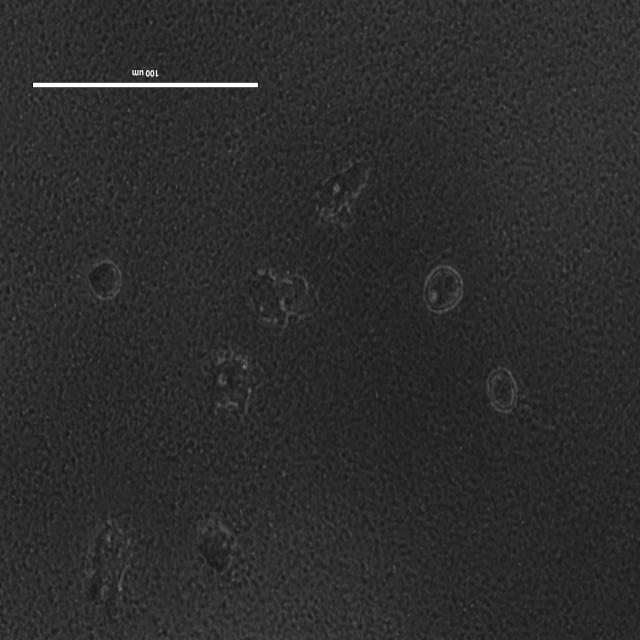Amoeba: (244, 267, 310, 329), (210, 346, 260, 427), (91, 524, 133, 619), (310, 159, 370, 218), (194, 517, 236, 573), (425, 265, 462, 310), (488, 366, 520, 414), (88, 258, 121, 300)
